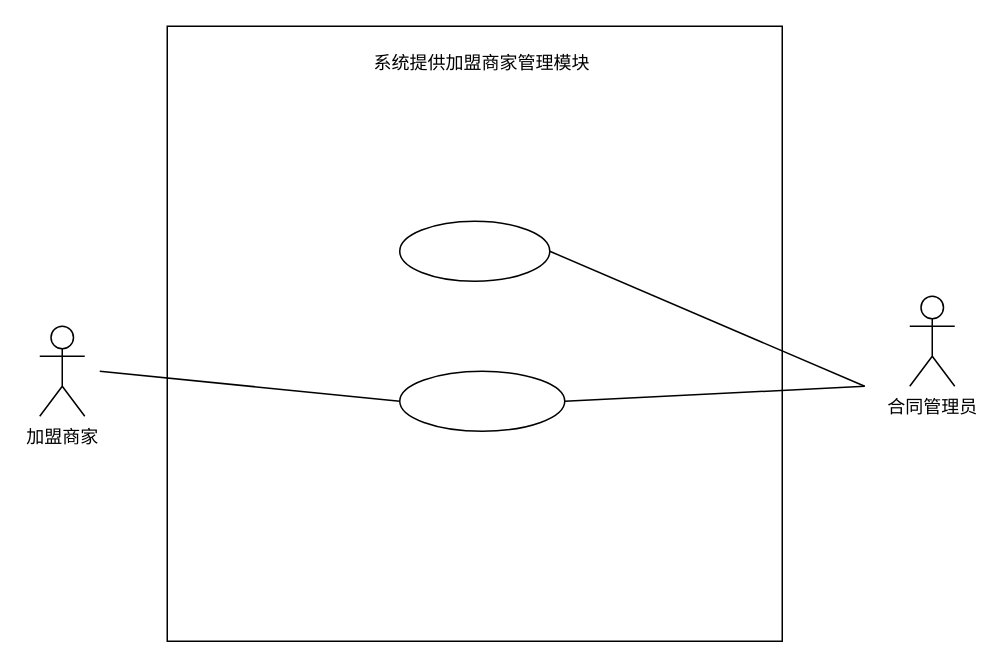
This 1002x668 diagram has some shape labels left out. The shapes that lost their labels are listed below. From the top down, each one's box as (x1, y1, x2, y2) in pixels, then its label:
(398, 220, 550, 281): 管理加盟商合同
(398, 370, 565, 431): 处理加盟商合同
